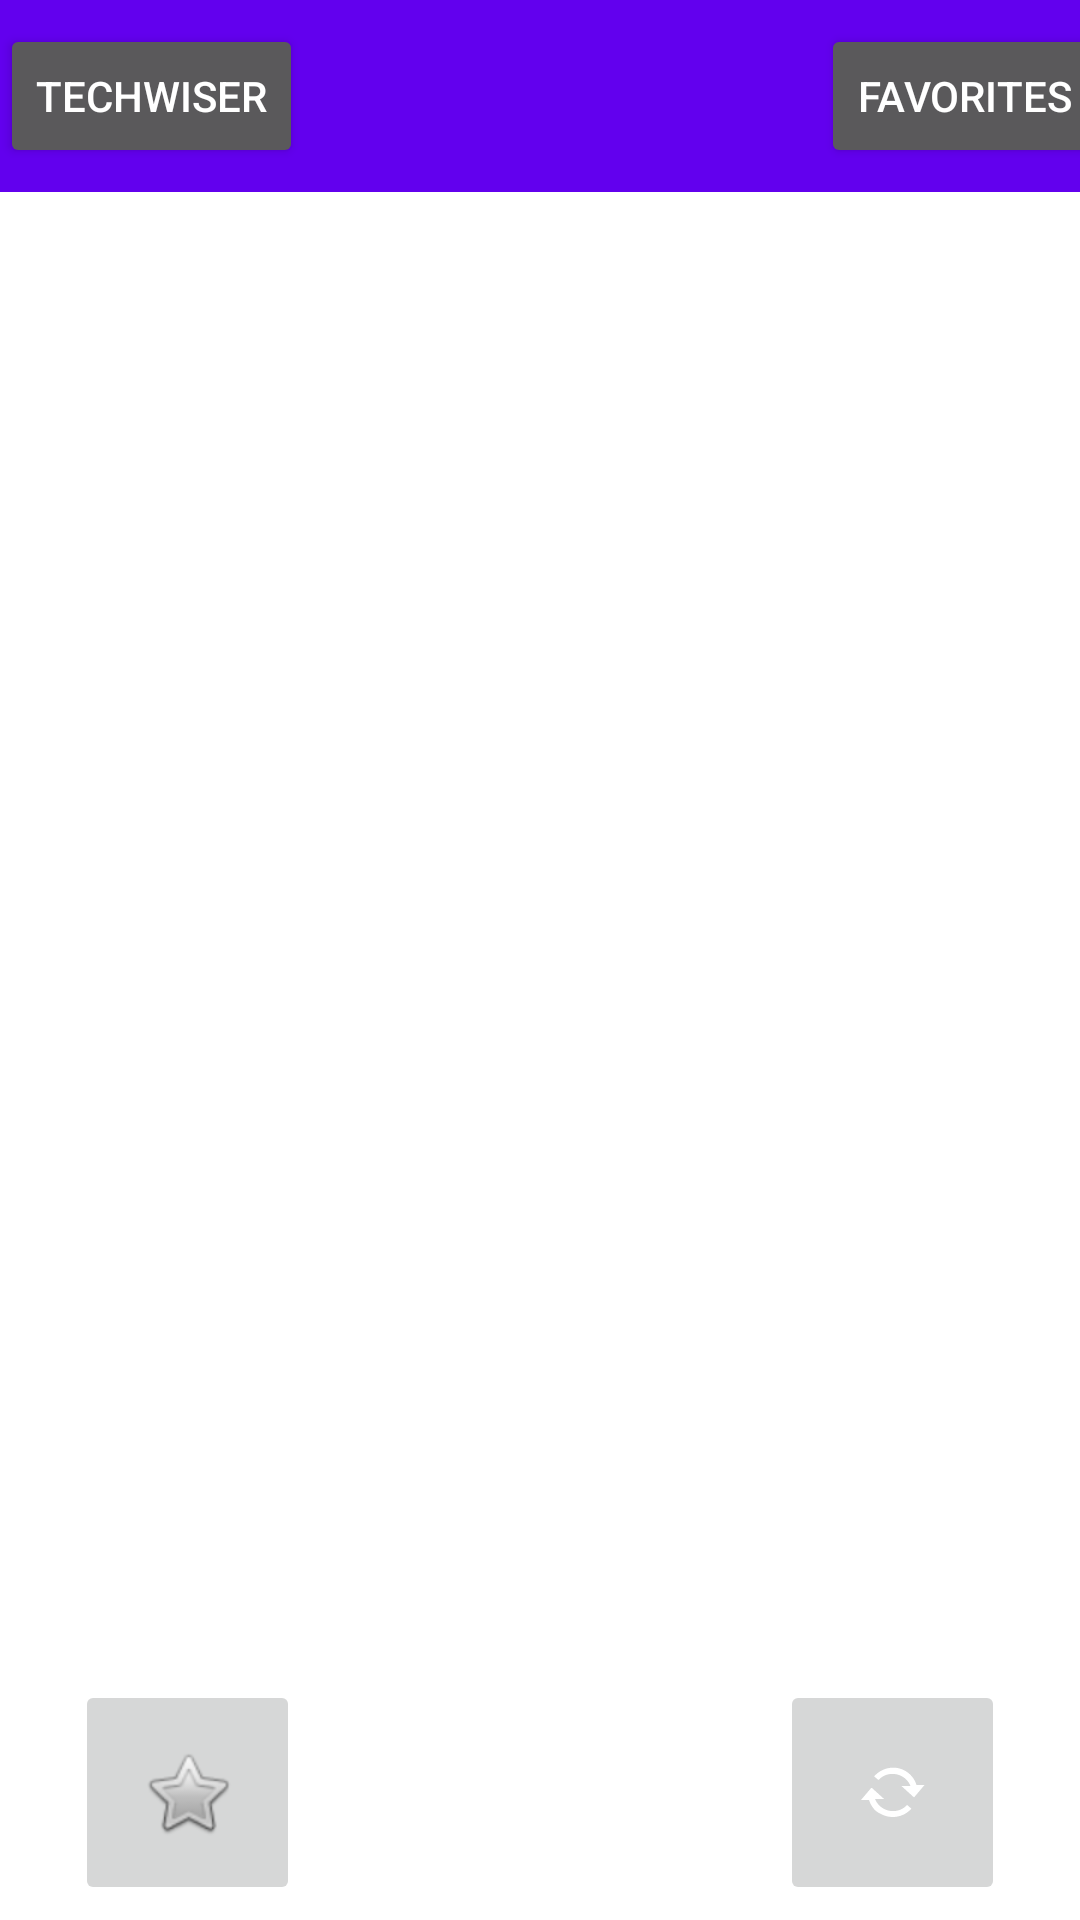

Icon click points for this 1080w x 1920h phone screenshot, format [x,y]:
star: [187,1792]
sync: [892,1792]
